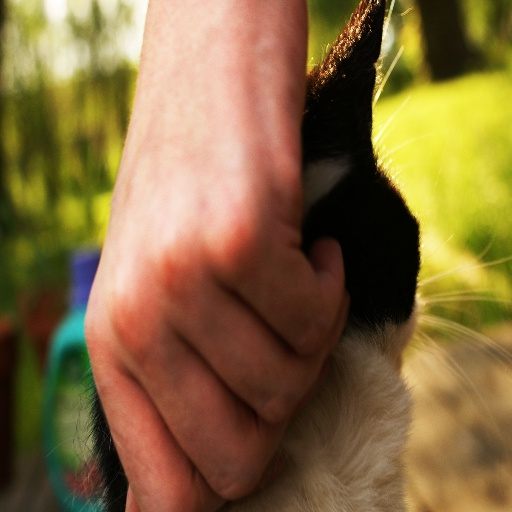hand: (83, 0, 349, 511)
